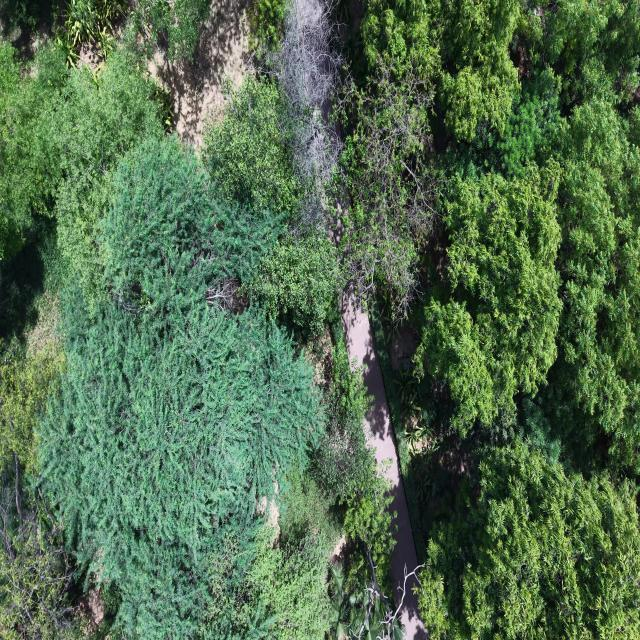DRY_AREA: (341, 296, 417, 603), (341, 299, 417, 602), (150, 0, 248, 150)
VEGETATION_TREE: (0, 0, 639, 639), (0, 31, 392, 638), (342, 2, 639, 637), (40, 138, 323, 637), (346, 2, 639, 474), (0, 43, 146, 637), (212, 323, 394, 639), (346, 0, 521, 319), (420, 442, 639, 639), (0, 42, 163, 297), (415, 163, 561, 436), (540, 96, 639, 474), (100, 137, 281, 317), (0, 296, 85, 639), (55, 46, 163, 301), (312, 339, 395, 638), (341, 67, 437, 319), (314, 335, 395, 586), (257, 0, 344, 233), (236, 472, 339, 639), (203, 77, 309, 225), (0, 467, 86, 639), (0, 42, 66, 259), (0, 0, 210, 67), (202, 76, 300, 216), (58, 0, 209, 65), (0, 217, 67, 359), (250, 234, 338, 335), (0, 338, 65, 473), (330, 563, 406, 639), (134, 0, 210, 60), (57, 0, 126, 66), (0, 0, 57, 37), (248, 0, 286, 55)
